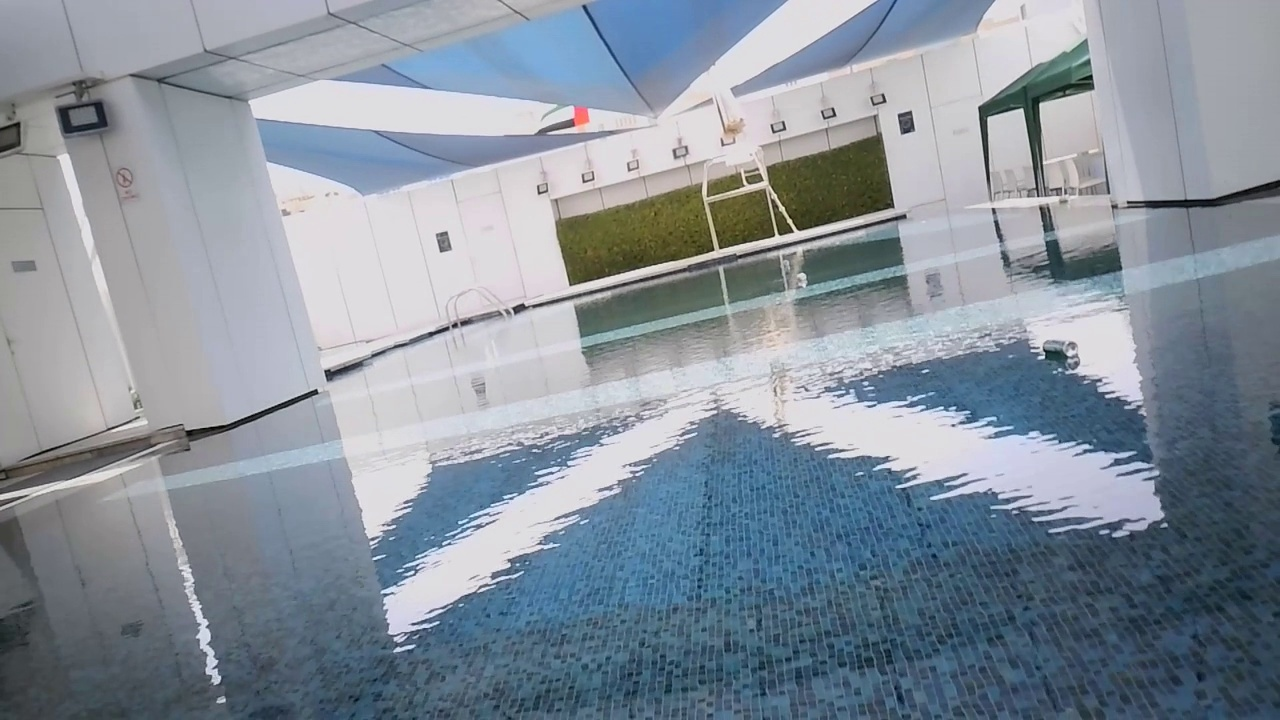debris: (1037, 335, 1085, 364), (794, 270, 810, 286), (1054, 193, 1073, 204), (779, 258, 794, 270)
